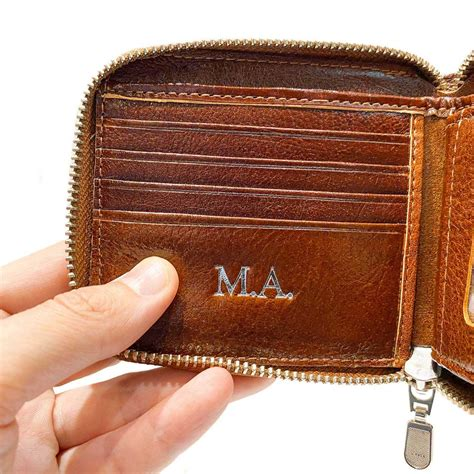cuero: (67, 37, 474, 412)
